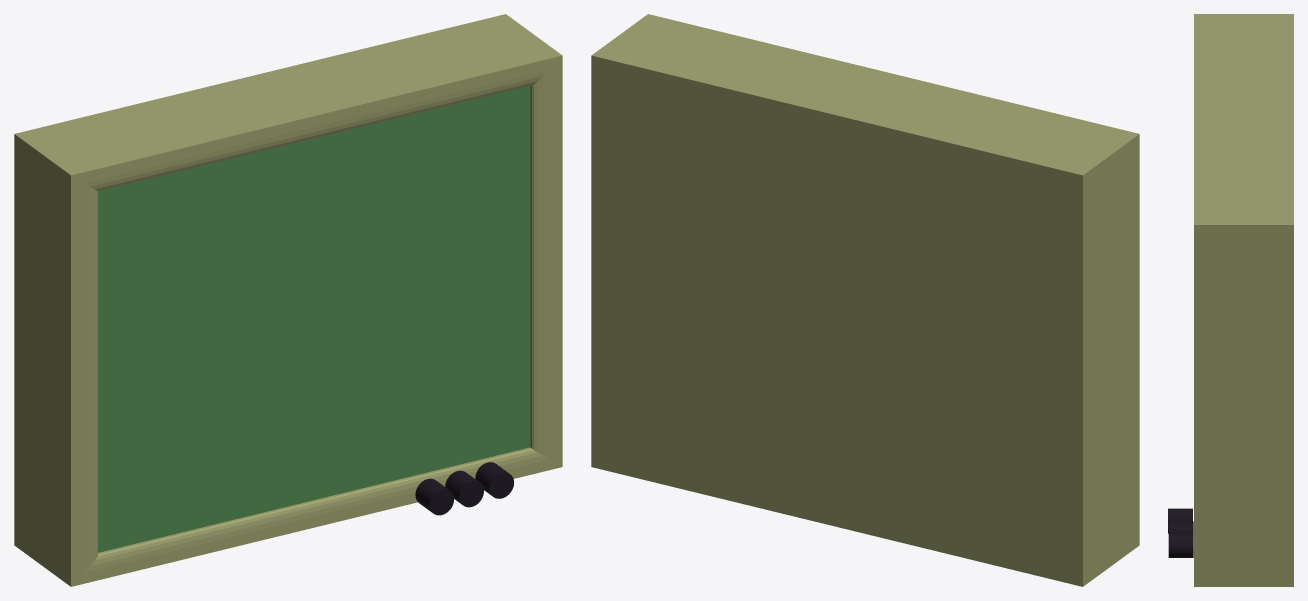
The model's file is retro_display1.fbx.
3 views of the same model, side by side, from view 1: azimuth 30°, elevation 25°; view 2: azimuth 150°, elevation 25°; view 3: azimuth 270°, elevation 25° (orthographic). The views are drawn at different scales.
Parts seen in each view (by area): view 1: Cube.001, Cube, Cylinder.002, Cylinder, Cylinder.001; view 2: Cube; view 3: Cube, Cylinder, Cylinder.002, Cylinder.001.
Boxes of the visible parts, left/top/right/bottom form: Cube.001: left=98, top=86, right=530, bottom=552; Cube: left=14, top=14, right=562, bottom=586; Cylinder.002: left=415, top=478, right=453, bottom=515; Cylinder: left=475, top=462, right=514, bottom=498; Cylinder.001: left=445, top=470, right=483, bottom=507; Cube: left=591, top=14, right=1139, bottom=586; Cube: left=1194, top=14, right=1293, bottom=586; Cylinder: left=1168, top=533, right=1193, bottom=557; Cylinder.002: left=1168, top=508, right=1192, bottom=533; Cylinder.001: left=1168, top=521, right=1193, bottom=533.
Bounding box in the file's own units: 200 × 162 × 50.38.
